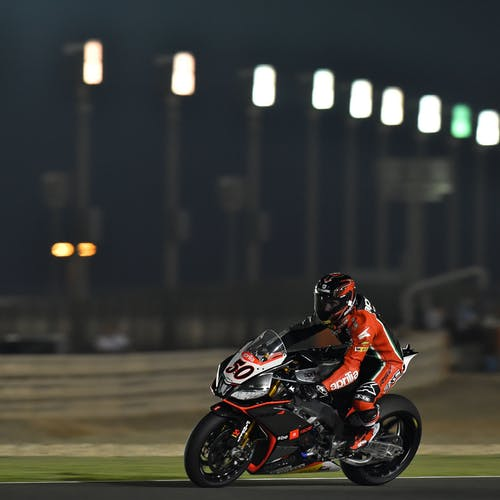helmet: (277, 262, 421, 492)
